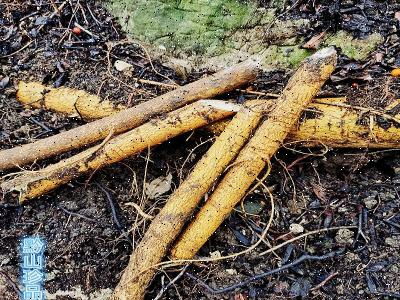Root: (0, 60, 265, 300), (170, 47, 336, 260)
